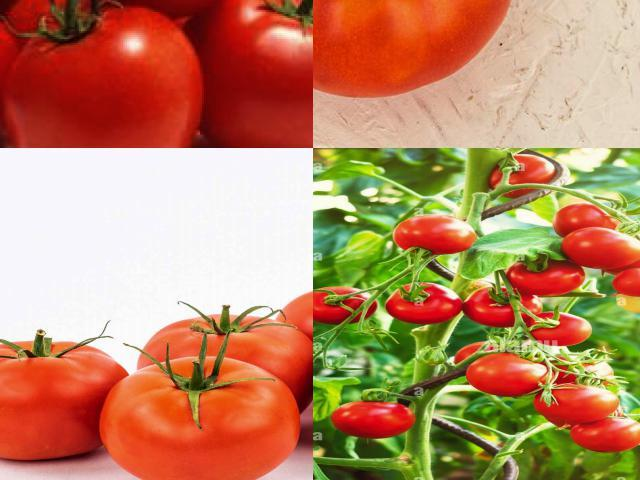tomato: (313, 0, 556, 127), (12, 4, 209, 147), (96, 355, 308, 479), (127, 305, 312, 435), (0, 339, 132, 474), (196, 0, 312, 147), (331, 396, 422, 444), (462, 351, 555, 393), (384, 282, 466, 328), (535, 381, 617, 423), (564, 225, 639, 270), (508, 257, 594, 295), (388, 219, 476, 255), (461, 287, 542, 326), (313, 285, 383, 328), (484, 160, 564, 197), (570, 418, 639, 455), (531, 314, 593, 352), (11, 0, 70, 24), (600, 272, 639, 297)
